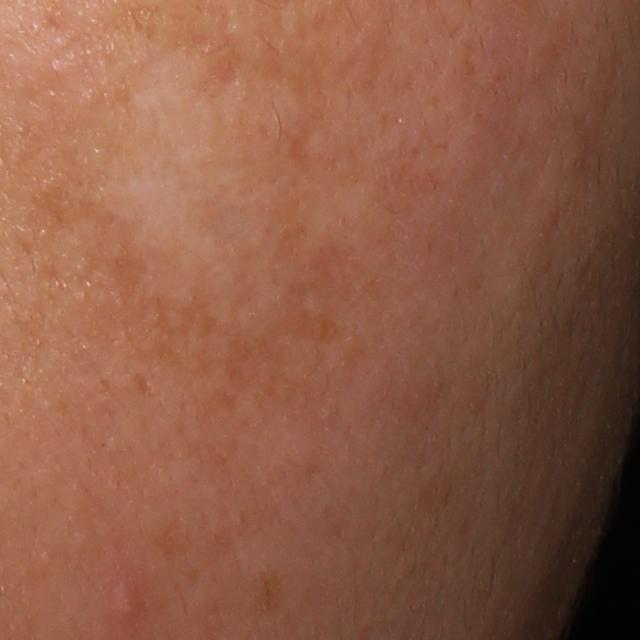papule: (108, 577, 147, 619)
